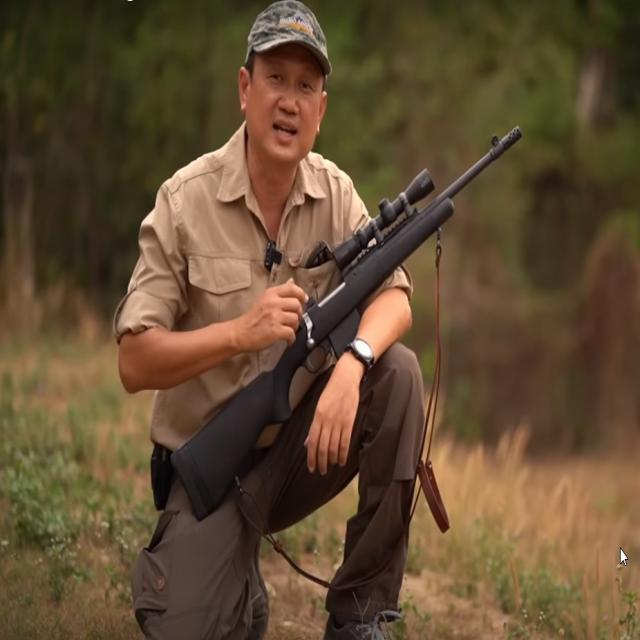rifle: (167, 110, 532, 594)
